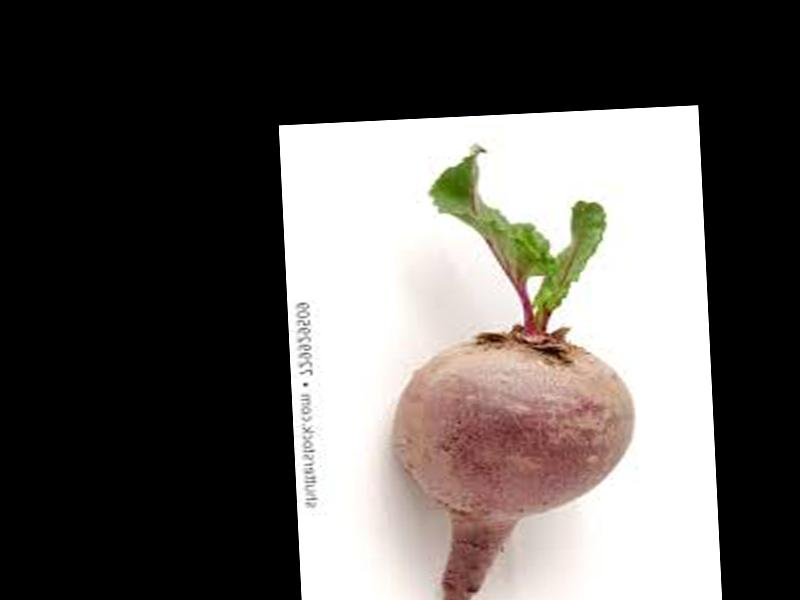Beet: (381, 137, 642, 600)
